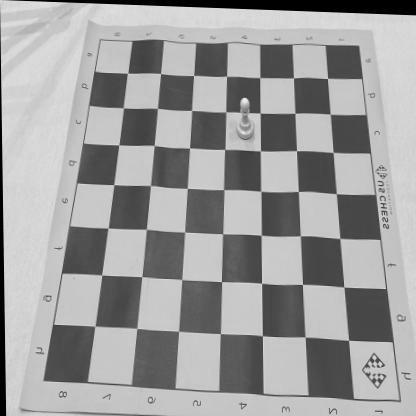white-pawn: (235, 94, 255, 139)
